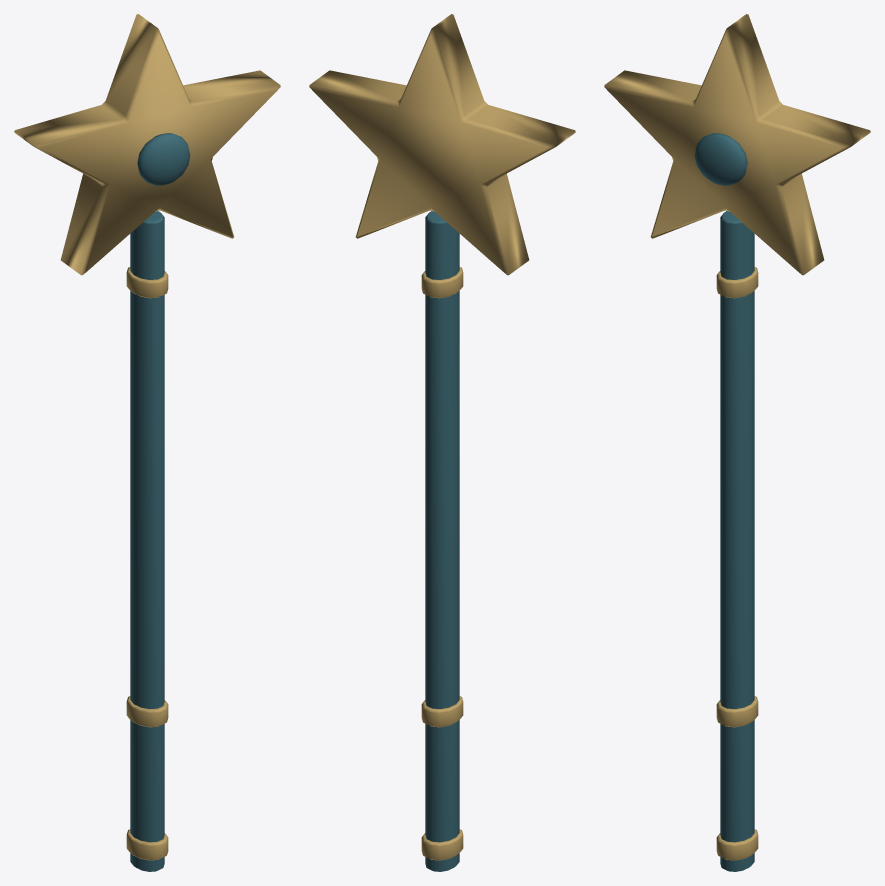
File: P026_star_wand_rebuilt.glb
3 renders of one model, left to right at view 1: azimuth 30°, elevation 25°; view 2: azimuth 150°, elevation 25°; view 3: azimuth 330°, elevation 25°, orthographic.
Visible parts, largest first — view 1: brass, blue; view 2: brass, blue; view 3: brass, blue.
Boxes of the visible parts, box(x1,y1,x2,y2) form: brass: box(14, 14, 280, 860); blue: box(130, 133, 190, 871); brass: box(309, 14, 575, 860); blue: box(425, 211, 459, 871); brass: box(604, 14, 870, 860); blue: box(694, 133, 754, 871).
Bounding box in the file's own units: 0.1753 × 0.5722 × 0.044.
